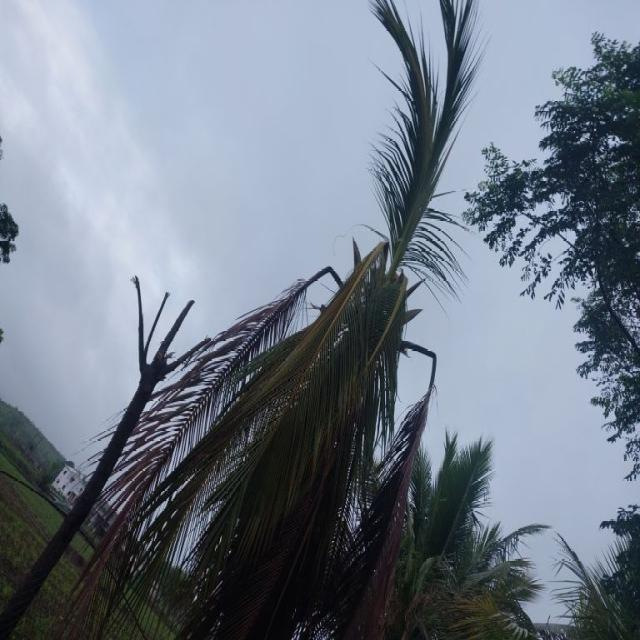bud root dropping: (69, 0, 480, 638)
